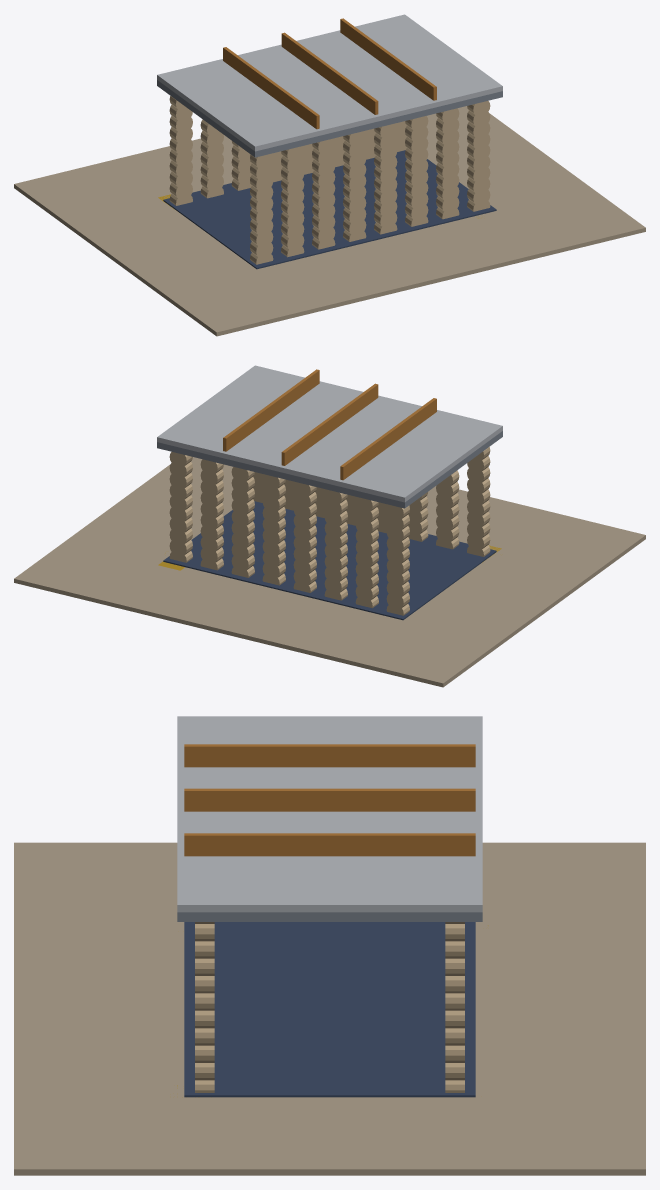
Rendered from stage_10_roof_covering.glb.
3 renders of one model, top to bottom at view 1: azimuth 30°, elevation 25°; view 2: azimuth 150°, elevation 25°; view 3: azimuth 270°, elevation 25°, orthographic. The views are drawn at different scales.
Visible parts, largest first — view 1: world; view 2: world; view 3: world.
Boxes of the visible parts, box(x1,y1,x2,y2) form: world: box(14, 14, 645, 336); world: box(14, 365, 645, 687); world: box(14, 716, 645, 1175).
Size of the model in its own units: 11 by 4.2 by 9.
